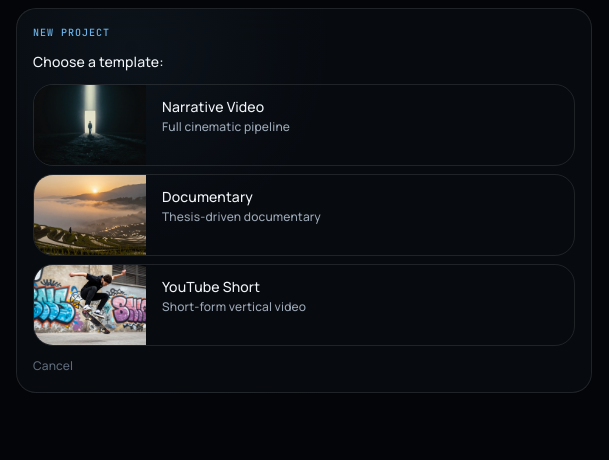
Scenario: NewProjectInline › shows duration selection after choosing style
Step 1. Click the text "Narrative Video" → coordinates (213, 106), box [162,97,264,116]
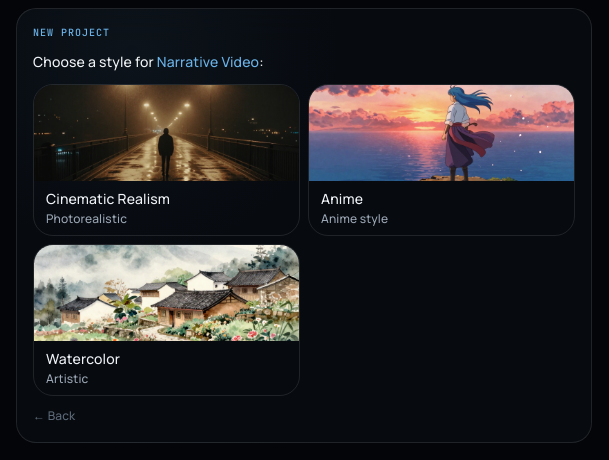
Step 2. Click the text "Anime" → coordinates (342, 198), box [321,189,363,208]
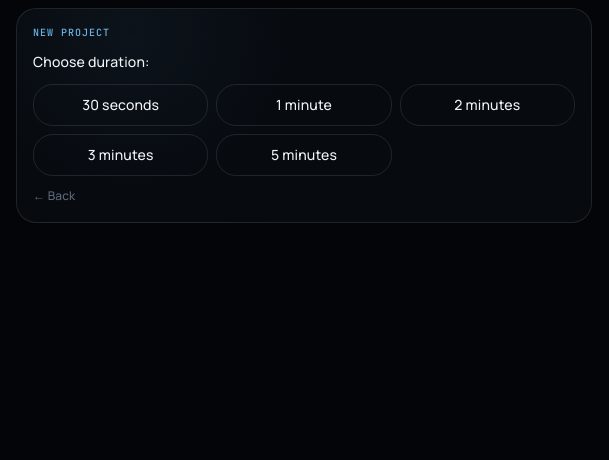
Result: the text "30 seconds" is shown at [82,95,159,114]
Result: the text "1 minute" is shown at [276,95,332,114]
Result: the text "2 minutes" is shown at [454,95,520,114]
